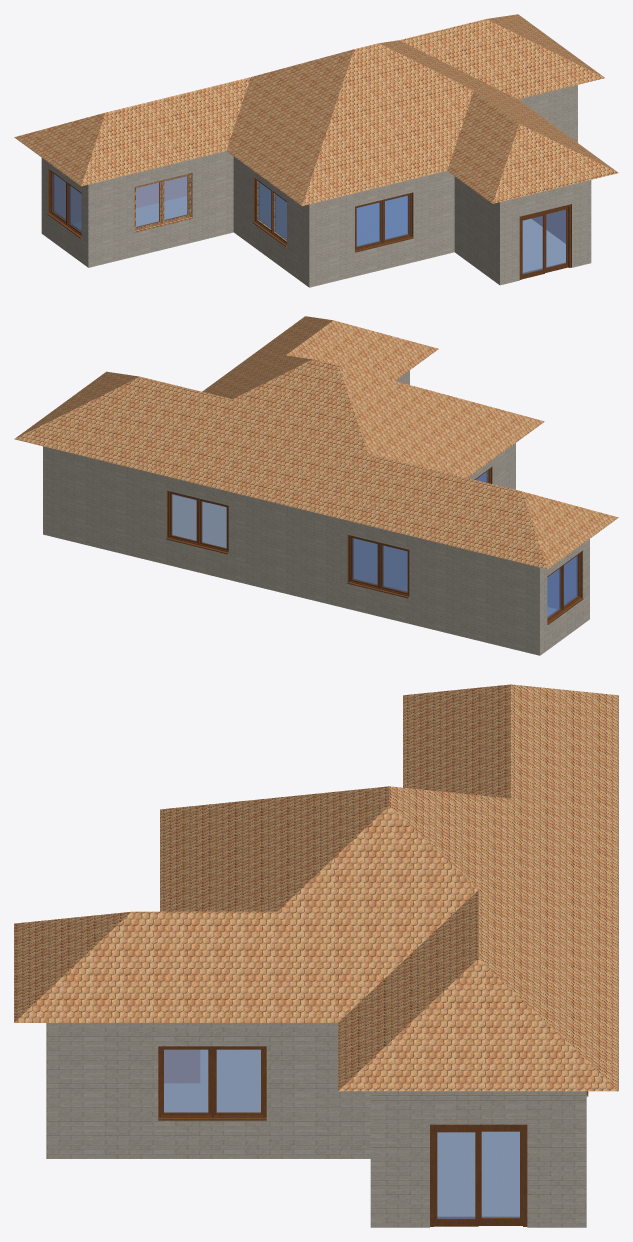
File: telhado37b.gltf
3 renders of one model, top to bottom at view 1: azimuth 30°, elevation 25°; view 2: azimuth 150°, elevation 25°; view 3: azimuth 270°, elevation 25°, orthographic. The views are drawn at different scales.
Parts seen in each view (by area): view 1: root; view 2: root; view 3: root.
Part boxes in pixels (x1,y1,x2,y2): root: [14, 14, 618, 287]; root: [14, 316, 618, 655]; root: [14, 684, 618, 1227].
Size of the model in its own units: 17.35 by 5.52 by 11.2.
Materials: 10 (4 with a texture image).
